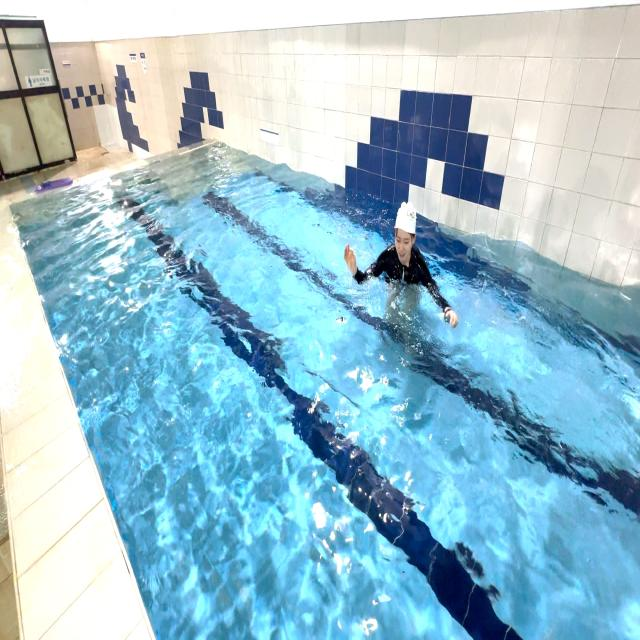Swimming: (343, 199, 459, 329)
